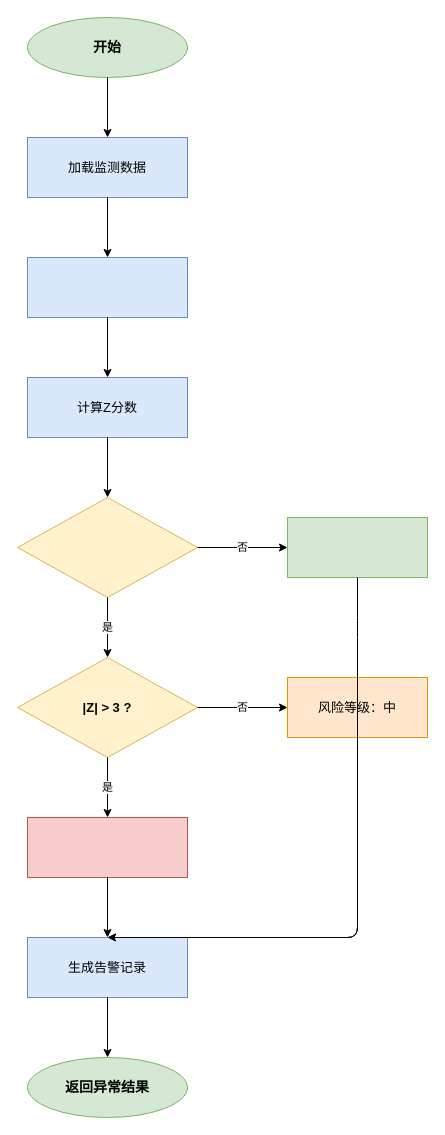
Some shapes in this 445 by 1135 pixel diagram are drawn without their labels. The shapes that lost their labels are listed below. From the top down, each one's centre as x and y in pixels, then its label:
At point (107, 287): "计算均值和标准差".
At point (107, 547): "|Z| > 2 ?".
At point (357, 547): "风险等级：低".
At point (107, 847): "风险等级：高".
